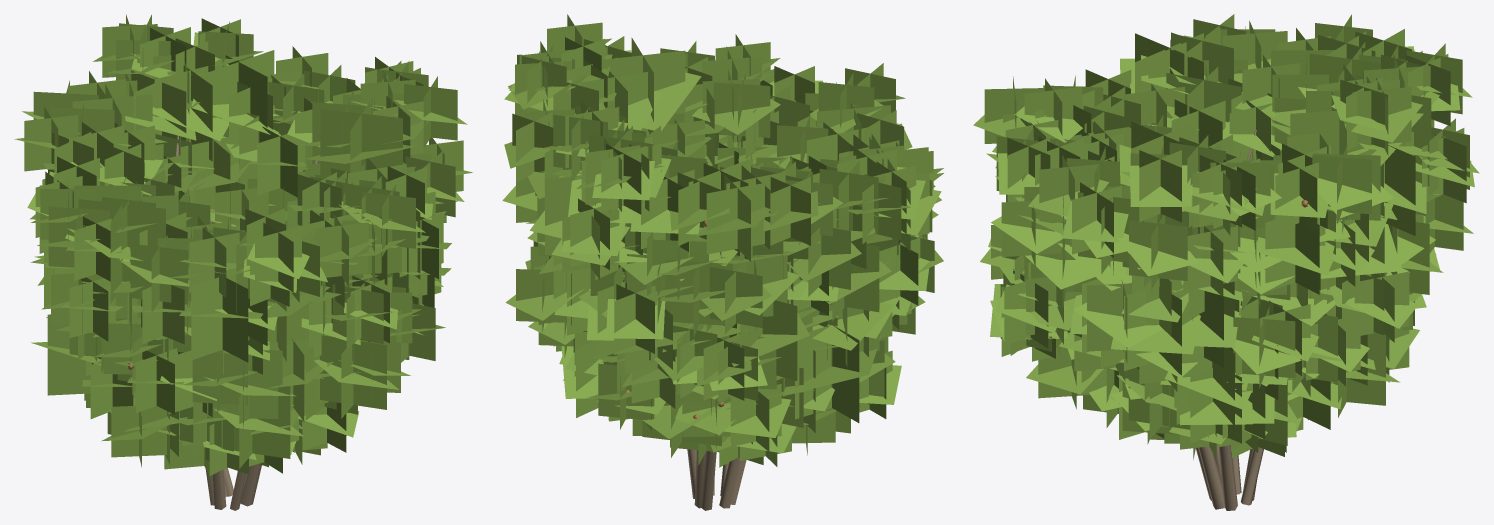
File: noisetier_2_f2_jeu.glb
3 renders of one model, left to right at view 1: azimuth 30°, elevation 25°; view 2: azimuth 150°, elevation 25°; view 3: azimuth 270°, elevation 25°, orthographic. The views are drawn at different scales.
Visible parts, largest first — view 1: Noisetier_T2_f2_Leger; view 2: Noisetier_T2_f2_Leger; view 3: Noisetier_T2_f2_Leger.
Part boxes in pixels (x1,y1,x2,y2): Noisetier_T2_f2_Leger: [14, 14, 472, 510]; Noisetier_T2_f2_Leger: [502, 14, 943, 510]; Noisetier_T2_f2_Leger: [973, 14, 1479, 510].
Size of the model in its own units: 4.38 by 4.27 by 4.41.
